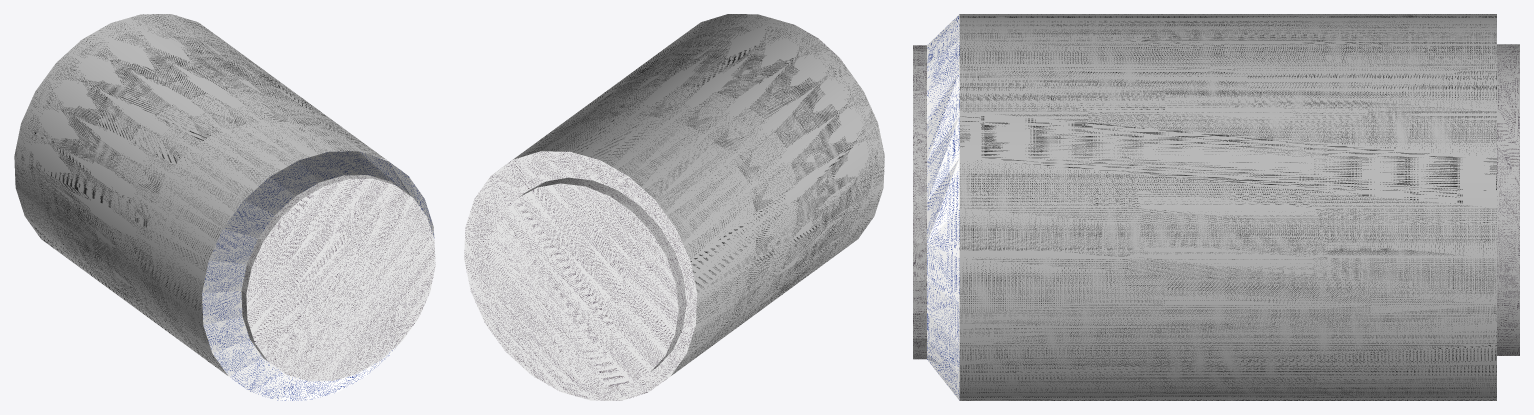
Rendered from model_align.obj.
The picture shows the model from 3 angles, left to right: view 1: azimuth 30°, elevation 25°; view 2: azimuth 150°, elevation 25°; view 3: azimuth 270°, elevation 25°; orthographic projection. The views are drawn at different scales.
Visible parts, largest first — view 1: mesh1_mesh1-geometry; view 2: mesh1_mesh1-geometry; view 3: mesh1_mesh1-geometry.
Part boxes in pixels (bbox=[...]): mesh1_mesh1-geometry: bbox=[14, 14, 435, 400]; mesh1_mesh1-geometry: bbox=[464, 14, 884, 400]; mesh1_mesh1-geometry: bbox=[913, 14, 1519, 400].
Bounding box in the file's own units: 0.0697 × 0.0697 × 0.1097.
